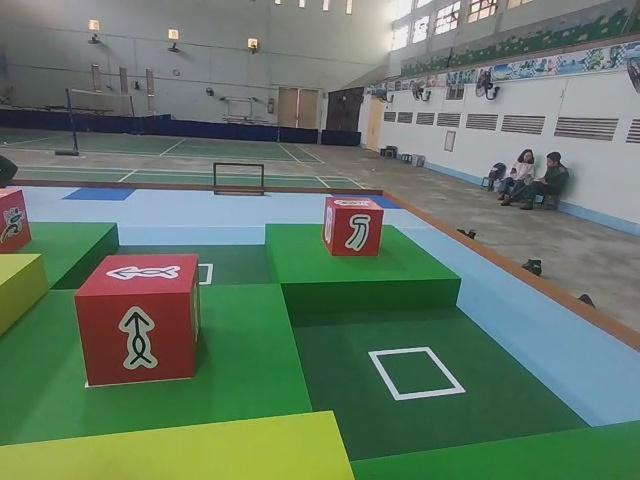R1: (0, 185, 35, 255)
R2 Fake: (323, 194, 386, 258)
R2 Real: (72, 251, 205, 387)
